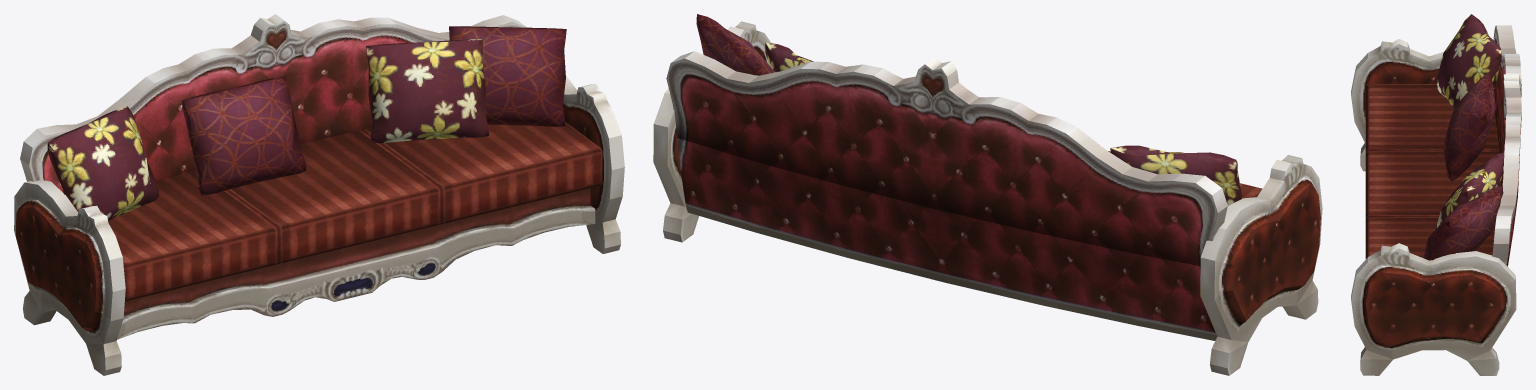
The model's file is furni_0201113_02.FBX.
3 renders of one model, left to right at view 1: azimuth 30°, elevation 25°; view 2: azimuth 150°, elevation 25°; view 3: azimuth 270°, elevation 25°, orthographic. The views are drawn at different scales.
Visible parts, largest first — view 1: furni_0201113_02; view 2: furni_0201113_02; view 3: furni_0201113_02.
Part boxes in pixels (bbox=[...]): furni_0201113_02: bbox=[14, 14, 624, 375]; furni_0201113_02: bbox=[653, 14, 1322, 375]; furni_0201113_02: bbox=[1351, 14, 1521, 375].
Size of the model in its own units: 239 by 99.45 by 79.86.
2 materials, 2 textured.
